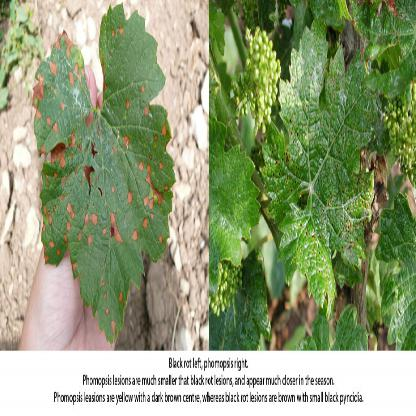grape leaf black rot: (24, 6, 190, 340), (263, 22, 383, 316)
